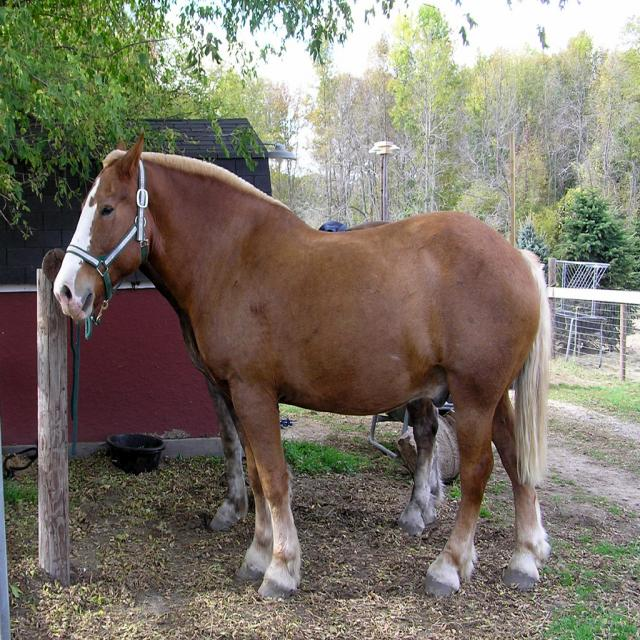Horse: (54, 126, 554, 603)
